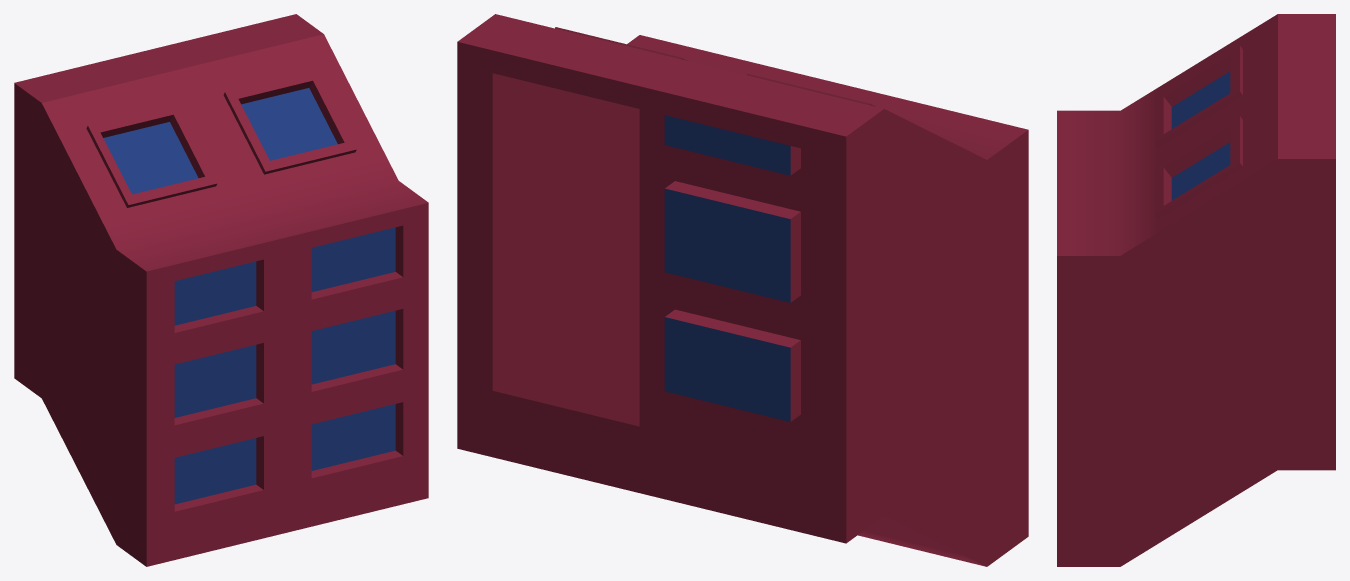
The model's file is SlantedRoof2.fbx.
The picture shows the model from 3 angles, left to right: view 1: azimuth 30°, elevation 25°; view 2: azimuth 150°, elevation 25°; view 3: azimuth 270°, elevation 25°; orthographic projection. The views are drawn at different scales.
Visible parts, largest first — view 1: SlantedRoofFloor; view 2: SlantedRoofFloor; view 3: SlantedRoofFloor.
Boxes of the visible parts, bbox=[...] form: SlantedRoofFloor: bbox=[14, 14, 428, 566]; SlantedRoofFloor: bbox=[457, 14, 1028, 566]; SlantedRoofFloor: bbox=[1057, 14, 1335, 566].
Size of the model in its own units: 11.6 by 15.2 by 9.42.
